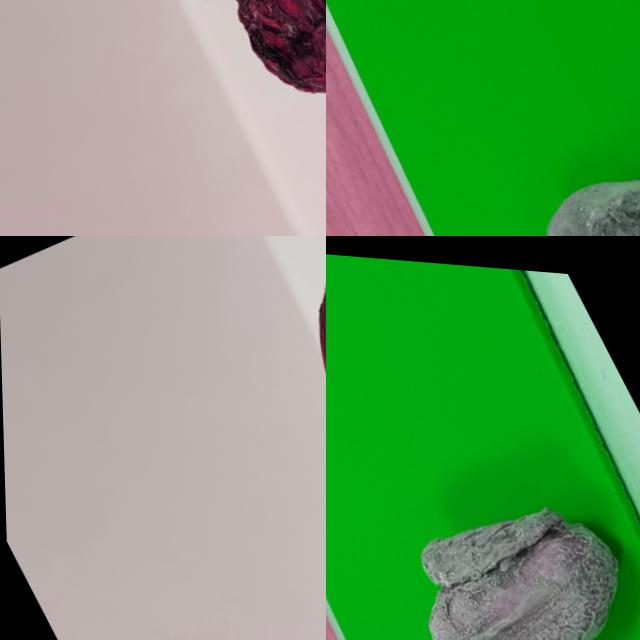Agglomerated_cocoabeans: (326, 359, 639, 639), (450, 18, 639, 235)
Fine_cocoabeans: (226, 236, 325, 639)
Flat_cocoabeans: (39, 0, 325, 203)
